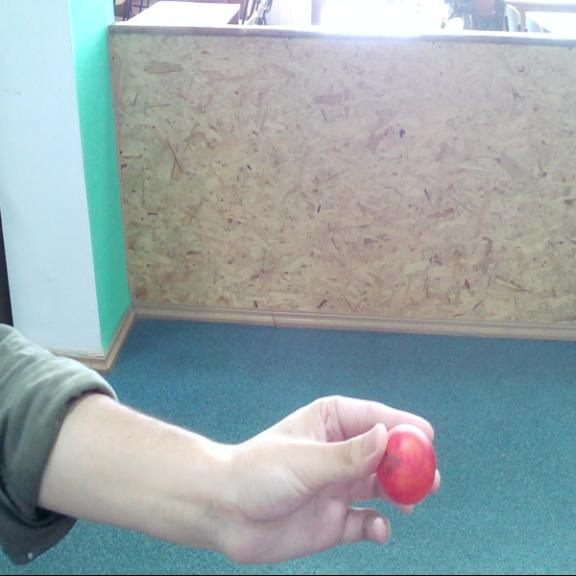ball: (378, 424, 438, 507)
